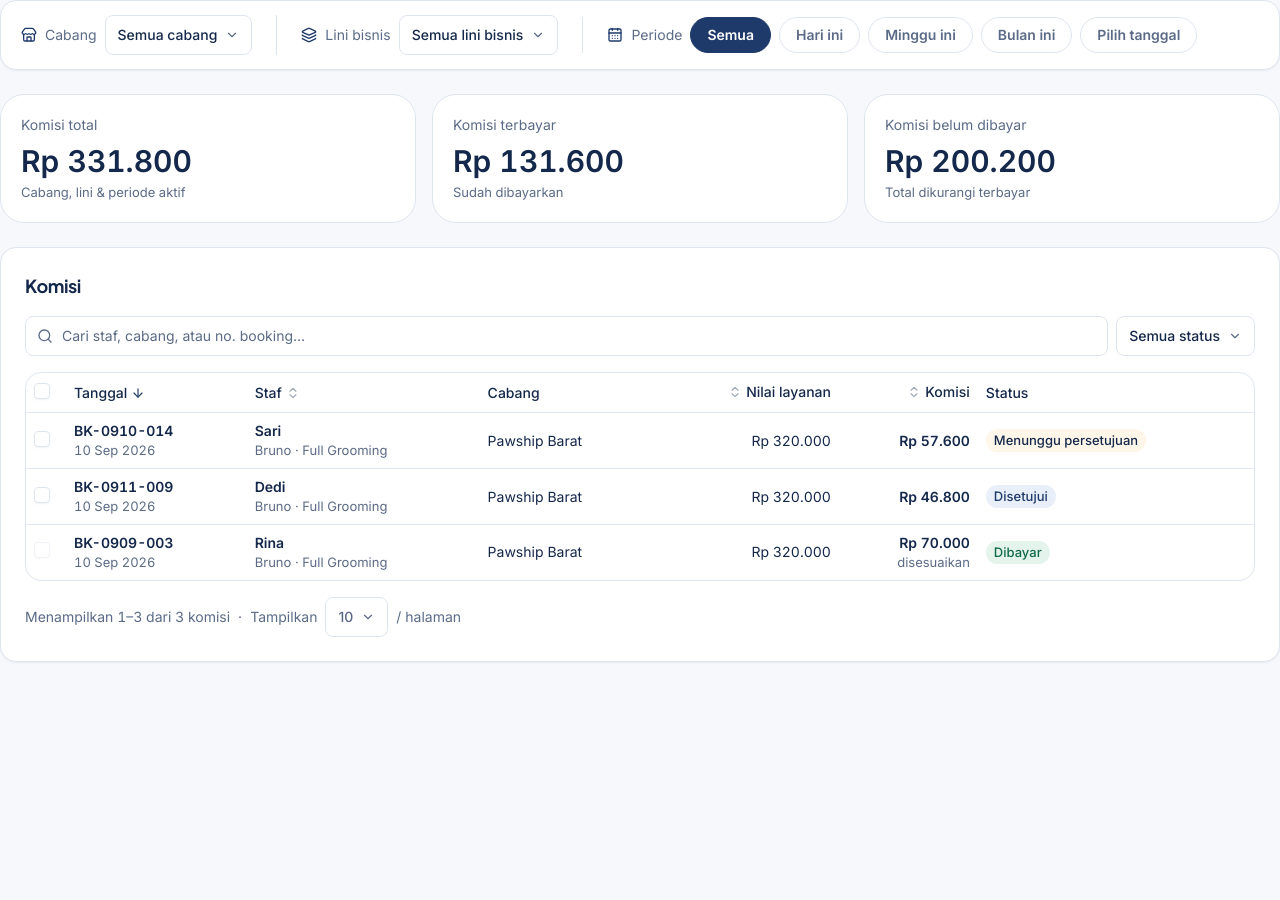
Test: CommissionScreen — approving and paying › offers no approving or paying to somebody who may only read the payroll
expect the link "BK-0910-014" is shown: met, box [74,422,173,439]
Click the checkbox named "Pilih komisi Sari BK-0910-014". click: coordinates (42, 439)
box: [34,431,50,447]
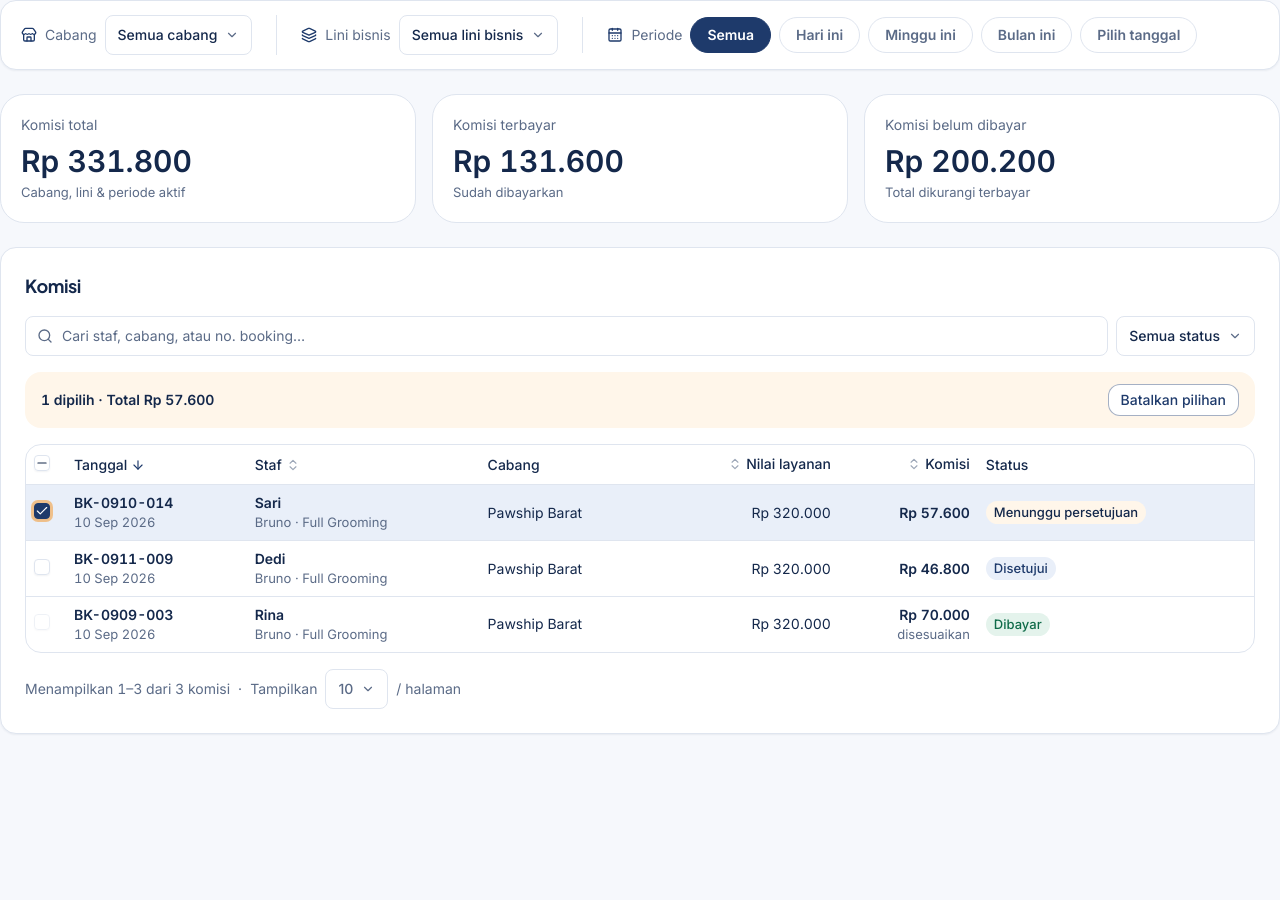
expect the text "Menunggu persetujuan" is shown: met, box [986,501,1146,524]
expect the button "Batalkan pilihan" is shown: met, box [1108,384,1239,416]
